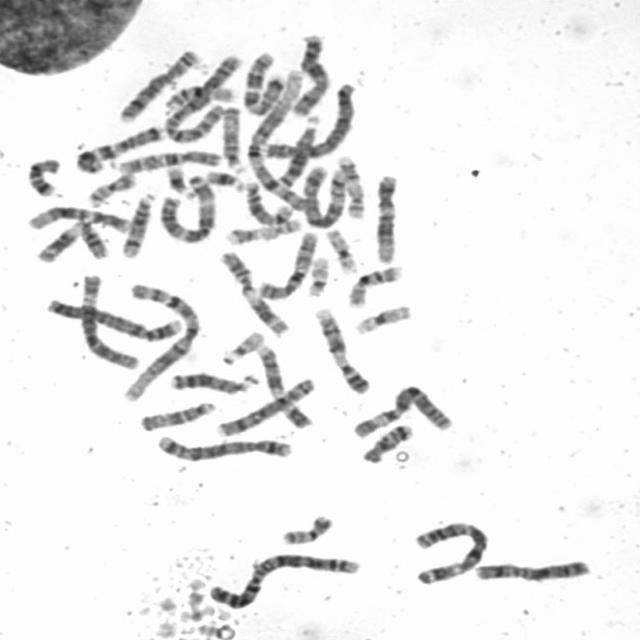A1: (241, 59, 309, 220), (118, 277, 204, 402)
A2: (204, 548, 364, 610), (160, 48, 244, 145)
A3: (408, 516, 491, 586), (154, 169, 219, 245)
B4: (258, 78, 361, 161), (42, 293, 186, 343)
B5: (151, 430, 296, 462), (299, 160, 349, 229)
C10: (255, 227, 321, 301), (111, 145, 224, 175)
C11: (215, 247, 293, 337), (33, 216, 112, 264)
C12: (23, 200, 132, 233), (369, 169, 402, 265)
C6: (348, 378, 456, 441), (75, 270, 142, 371)
C7: (72, 122, 167, 174), (239, 46, 284, 116)
C8: (114, 44, 202, 124), (212, 374, 317, 438)
C9: (252, 340, 316, 430), (310, 304, 372, 395)
D13: (272, 110, 324, 190), (165, 366, 259, 396)
D14: (116, 188, 159, 259), (240, 178, 295, 226)
D15: (136, 396, 218, 433), (218, 102, 248, 174)
E16: (344, 261, 406, 308), (158, 79, 238, 111)
E17: (220, 213, 304, 246), (332, 152, 368, 221)
E18: (358, 419, 416, 465), (22, 152, 64, 198)
F19: (351, 300, 415, 336), (322, 224, 361, 275)
F20: (276, 509, 336, 547), (84, 168, 138, 207)
G21: (201, 165, 249, 193), (162, 162, 196, 199)
G22: (216, 326, 267, 365), (302, 251, 332, 298)
X: (287, 29, 333, 118), (471, 555, 594, 584)
